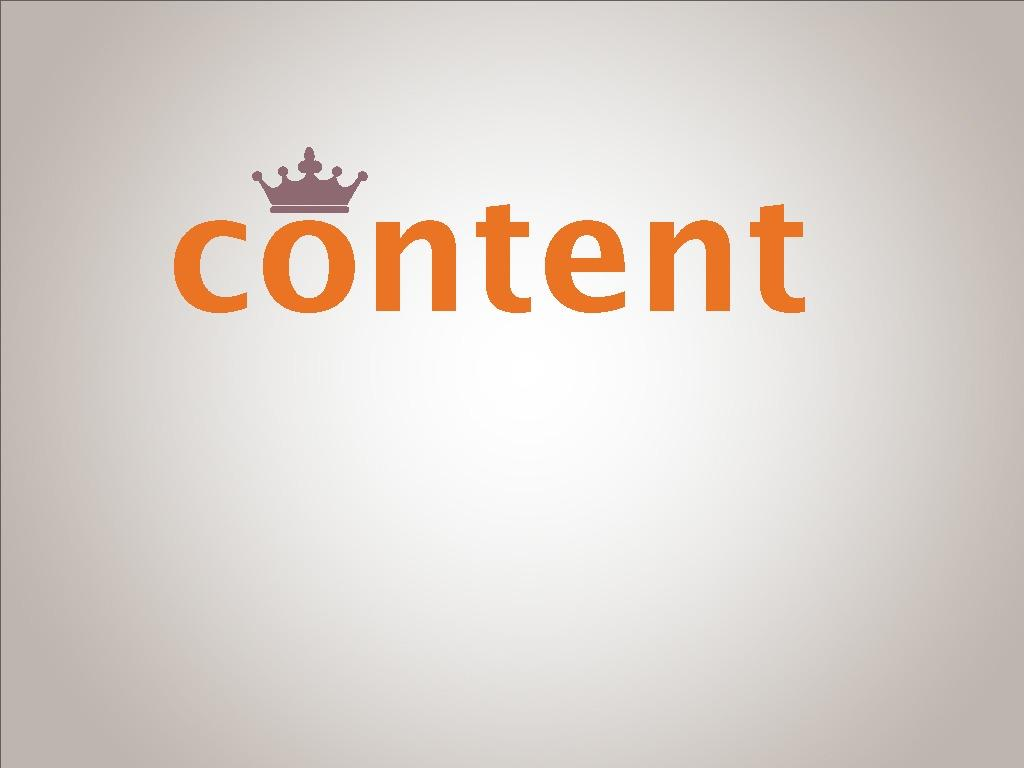title: (159, 194, 850, 352)
